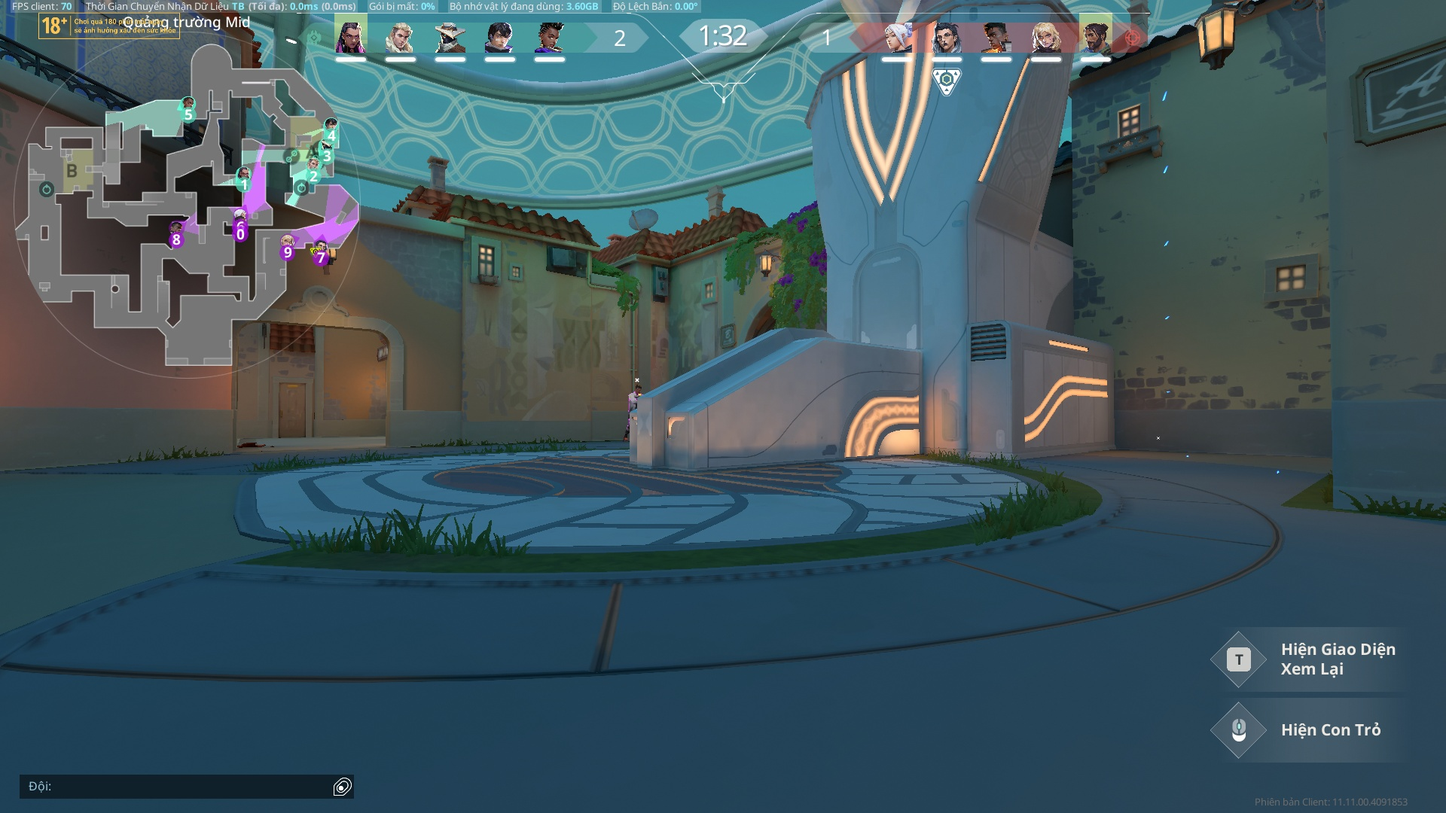body: (626, 391, 642, 410)
head: (633, 383, 643, 393)
